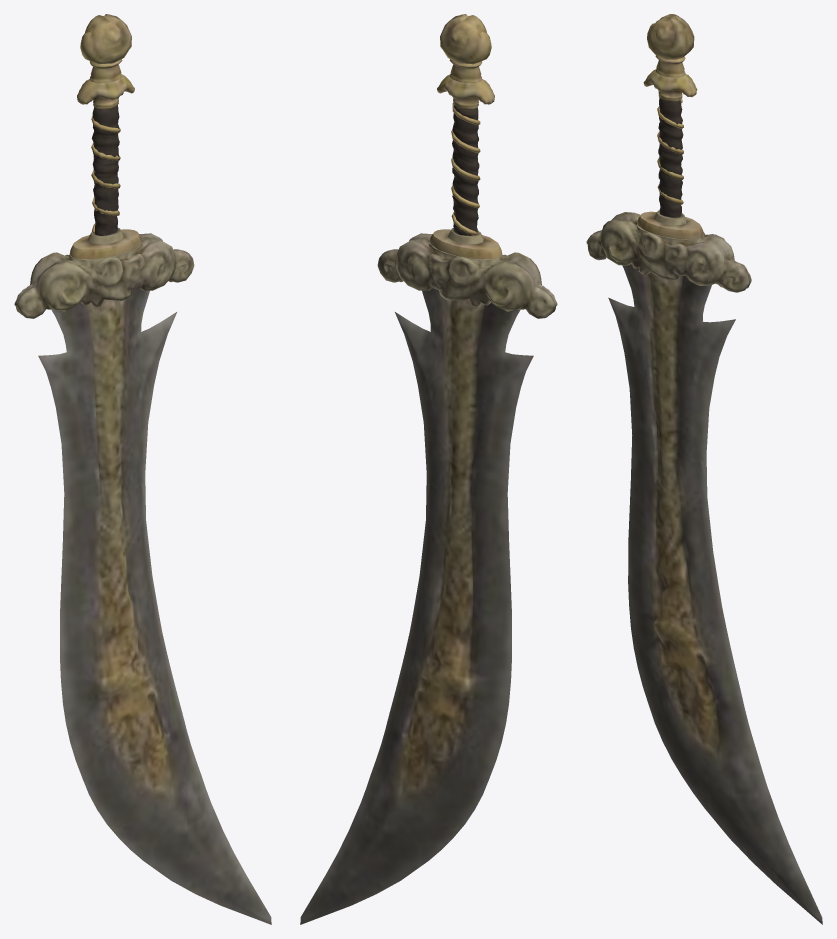
File: weapon-wp_a_0463.glb
The picture shows the model from 3 angles, left to right: view 1: azimuth 30°, elevation 25°; view 2: azimuth 150°, elevation 25°; view 3: azimuth 330°, elevation 25°; orthographic projection. The views are drawn at different scales.
Parts seen in each view (by area): view 1: wp_a_0463_mesh; view 2: wp_a_0463_mesh; view 3: wp_a_0463_mesh.
Part boxes in pixels (box(x1,y1,x2,y2)): wp_a_0463_mesh: box(14, 14, 271, 924); wp_a_0463_mesh: box(300, 14, 557, 924); wp_a_0463_mesh: box(586, 14, 822, 924).
Bounding box in the file's own units: 0.5013 × 1.77 × 0.1107.
1 material, 1 textured.
